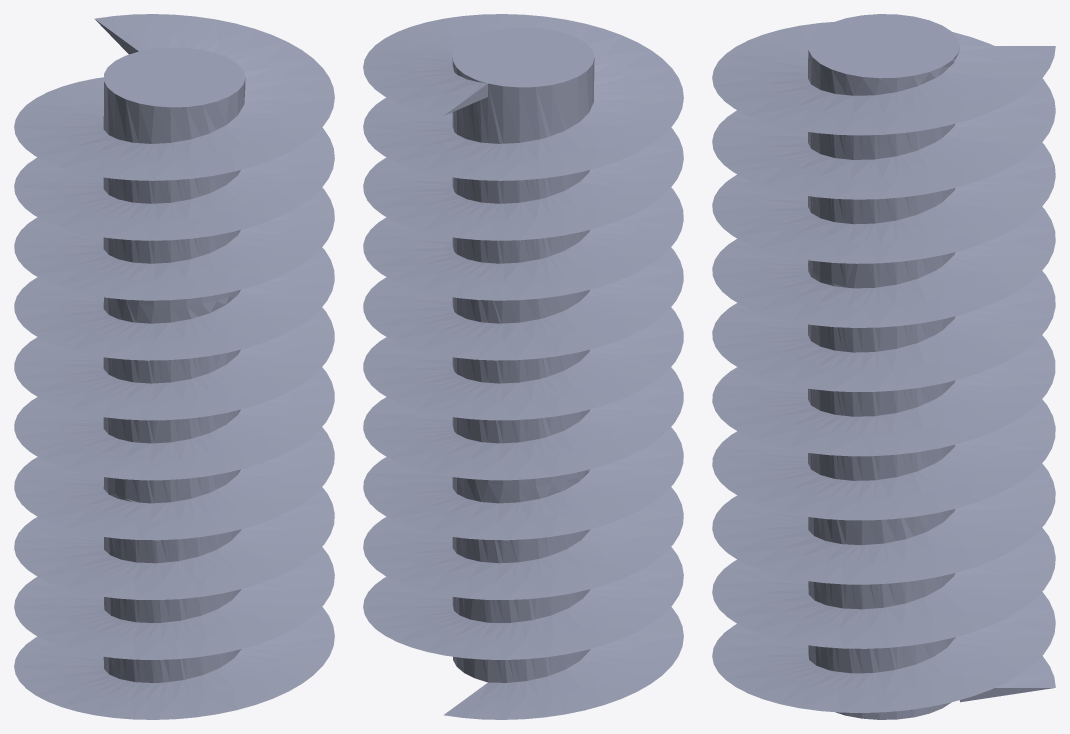
3 renders of one model, left to right at view 1: azimuth 30°, elevation 25°; view 2: azimuth 150°, elevation 25°; view 3: azimuth 270°, elevation 25°, orthographic. The views are drawn at different scales.
Parts seen in each view (by area): view 1: mesh_1_twister; view 2: mesh_1_twister; view 3: mesh_1_twister.
Boxes of the visible parts, left/top/right/bottom form: mesh_1_twister: left=14, top=14, right=334, bottom=719; mesh_1_twister: left=363, top=14, right=683, bottom=719; mesh_1_twister: left=712, top=14, right=1055, bottom=719.
Size of the model in its own units: 0.1456 by 0.3067 by 0.1456.
